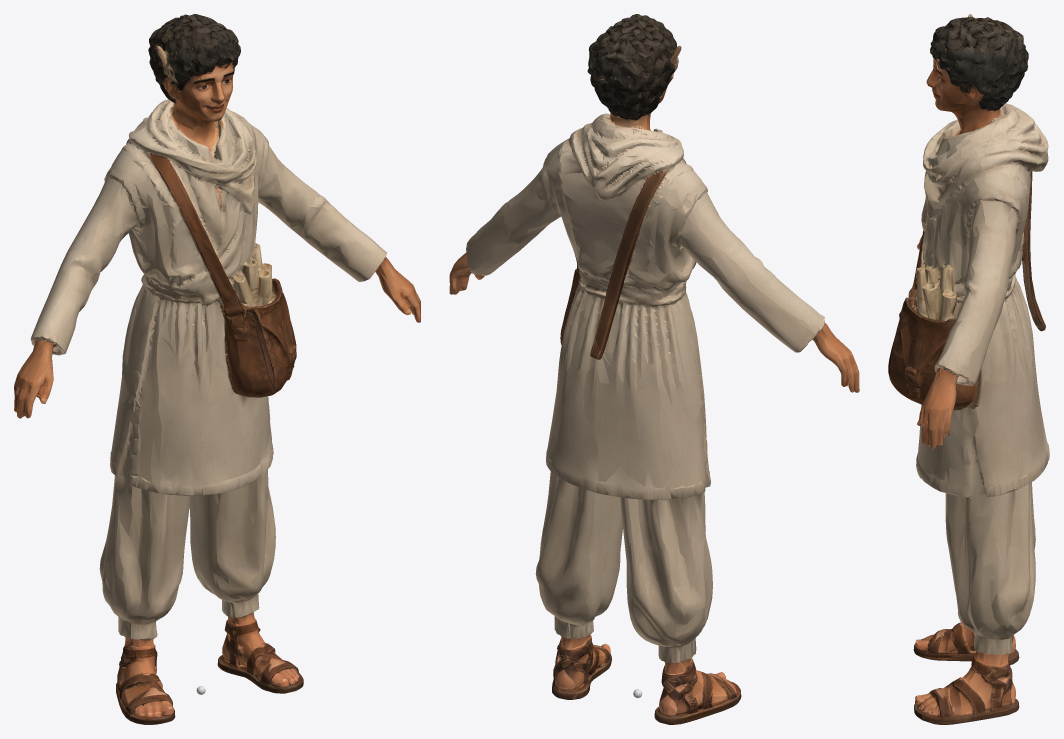
File: rawi-for-mixamo.fbx
The picture shows the model from 3 angles, left to right: view 1: azimuth 30°, elevation 25°; view 2: azimuth 150°, elevation 25°; view 3: azimuth 270°, elevation 25°; orthographic projection.
Parts seen in each view (by area): view 1: char1; view 2: char1; view 3: char1.
Boxes of the visible parts, x1,y1,x2,y2 form: char1: (14, 14, 420, 724); char1: (449, 14, 859, 724); char1: (888, 14, 1049, 724).
Bounding box in the file's own units: 10083 × 16100 × 3527.
Materials: 1 (1 with a texture image).
